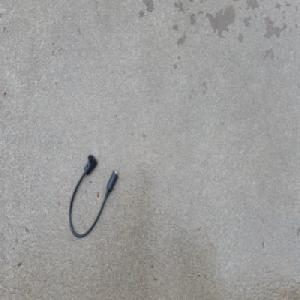Wire: (68, 152, 119, 239)
